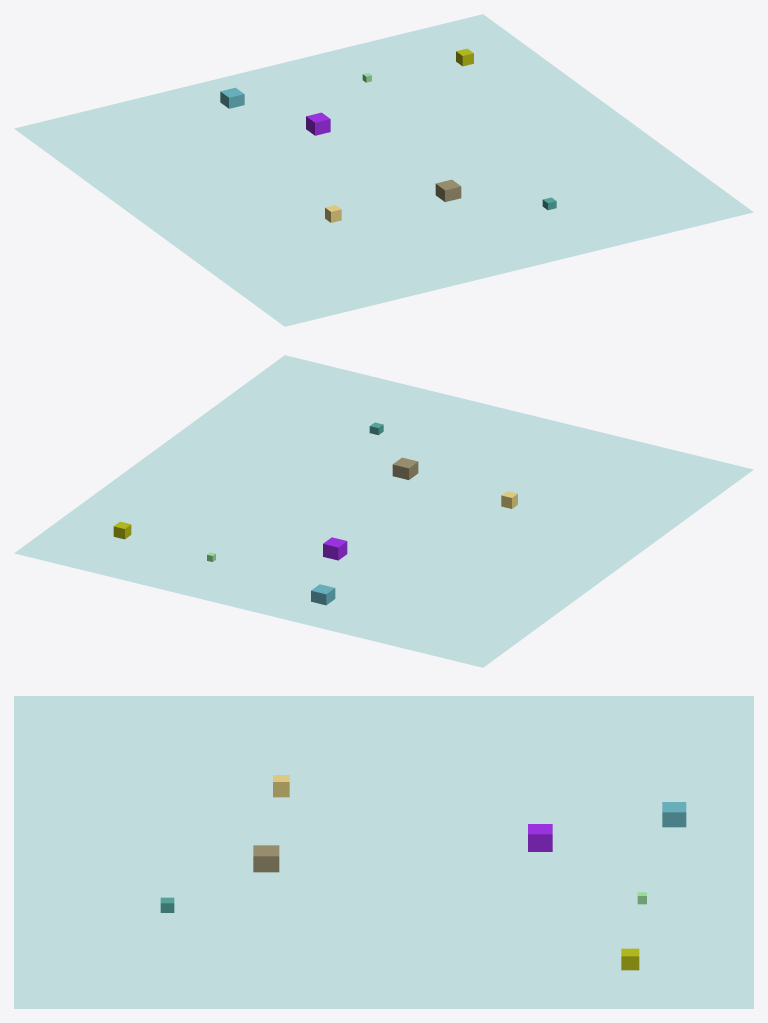
The picture shows the model from 3 angles, top to bottom: view 1: azimuth 30°, elevation 25°; view 2: azimuth 150°, elevation 25°; view 3: azimuth 270°, elevation 25°; orthographic projection. The views are drawn at different scales.
Parts seen in each view (by area): view 1: Chunk_-2_-2; view 2: Chunk_-2_-2; view 3: Chunk_-2_-2.
Part boxes in pixels (left/top/right/bottom): Chunk_-2_-2: left=14, top=14, right=753, bottom=326; Chunk_-2_-2: left=14, top=355, right=753, bottom=667; Chunk_-2_-2: left=14, top=696, right=753, bottom=1008.
Bounding box in the file's own units: 1500 × 56.09 × 1500.
